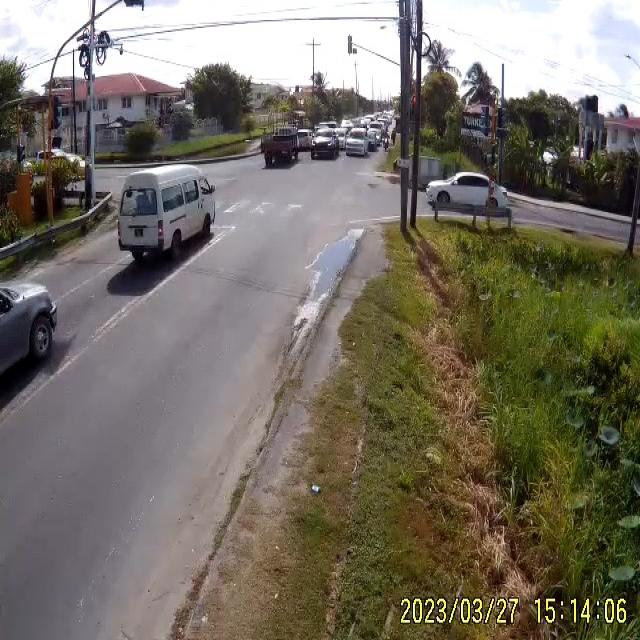car: (115, 166, 215, 263), (0, 278, 57, 408), (425, 174, 512, 229), (310, 124, 340, 159), (343, 130, 368, 156), (366, 126, 383, 148)
truck: (263, 128, 302, 169)
